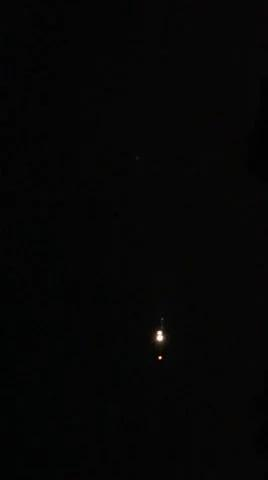Plane: (136, 293, 182, 383)
